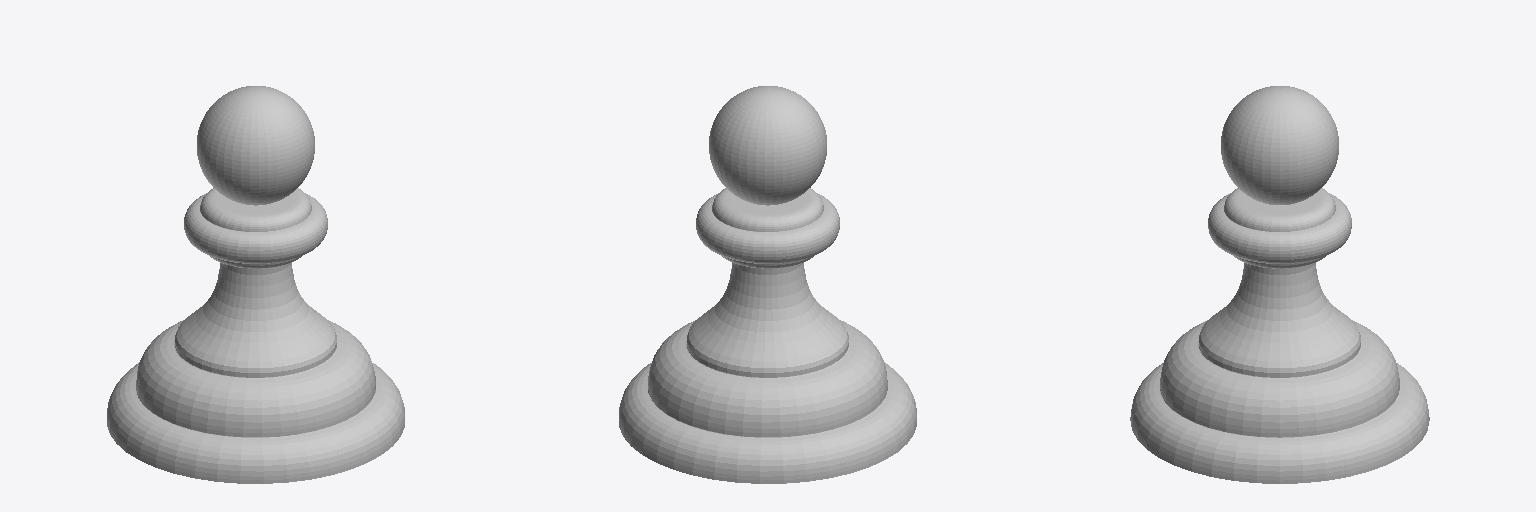
The model's file is finalsoliiderleft4.obj.
The picture shows the model from 3 angles: view 1: azimuth 30°, elevation 25°; view 2: azimuth 150°, elevation 25°; view 3: azimuth 270°, elevation 25°; orthographic projection.
Parts seen in each view (by area): view 1: white_pawn1_Mesh.003; view 2: white_pawn1_Mesh.003; view 3: white_pawn1_Mesh.003.
Boxes of the visible parts, x1,y1,x2,y2 form: white_pawn1_Mesh.003: [107, 86, 404, 483]; white_pawn1_Mesh.003: [619, 86, 916, 483]; white_pawn1_Mesh.003: [1130, 86, 1429, 483].
Size of the model in its own units: 0.489 by 0.5954 by 0.489.